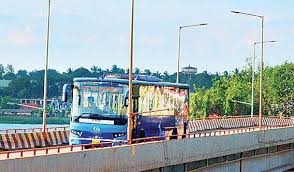Chigari: (60, 75, 192, 152)
